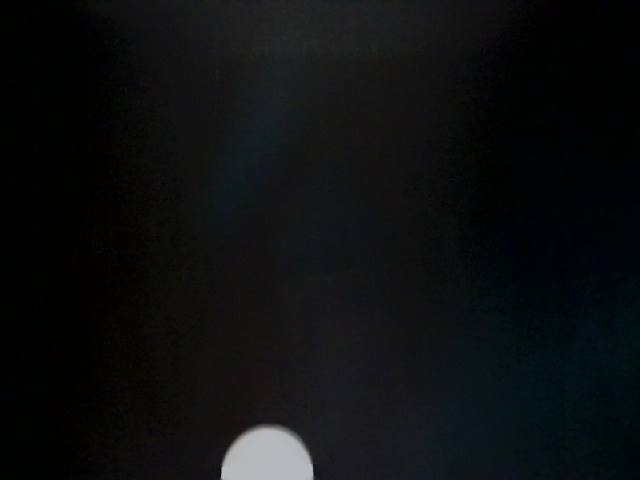KHSLJ: (175, 444, 332, 480)
